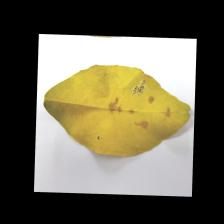black spot: (102, 75, 176, 145)
